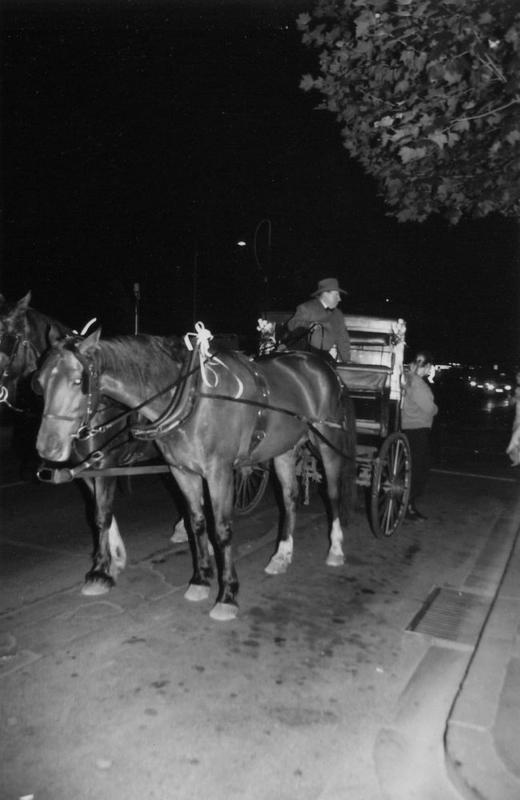horse: (30, 313, 361, 625)
